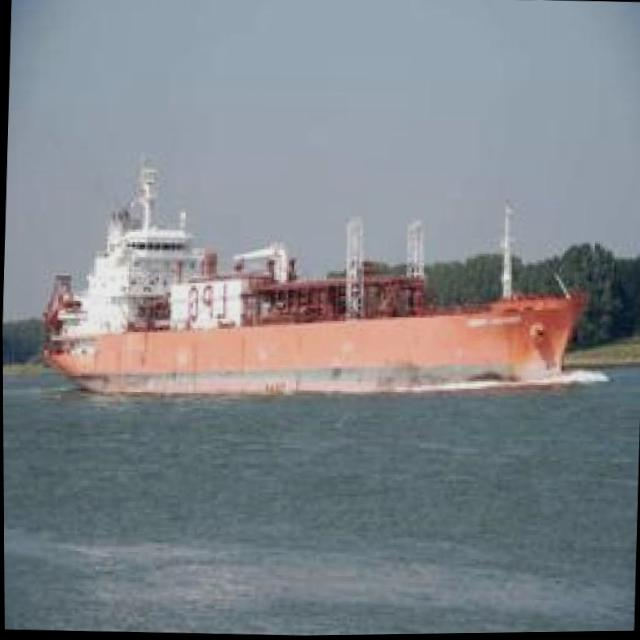ship2: (41, 166, 609, 395)
